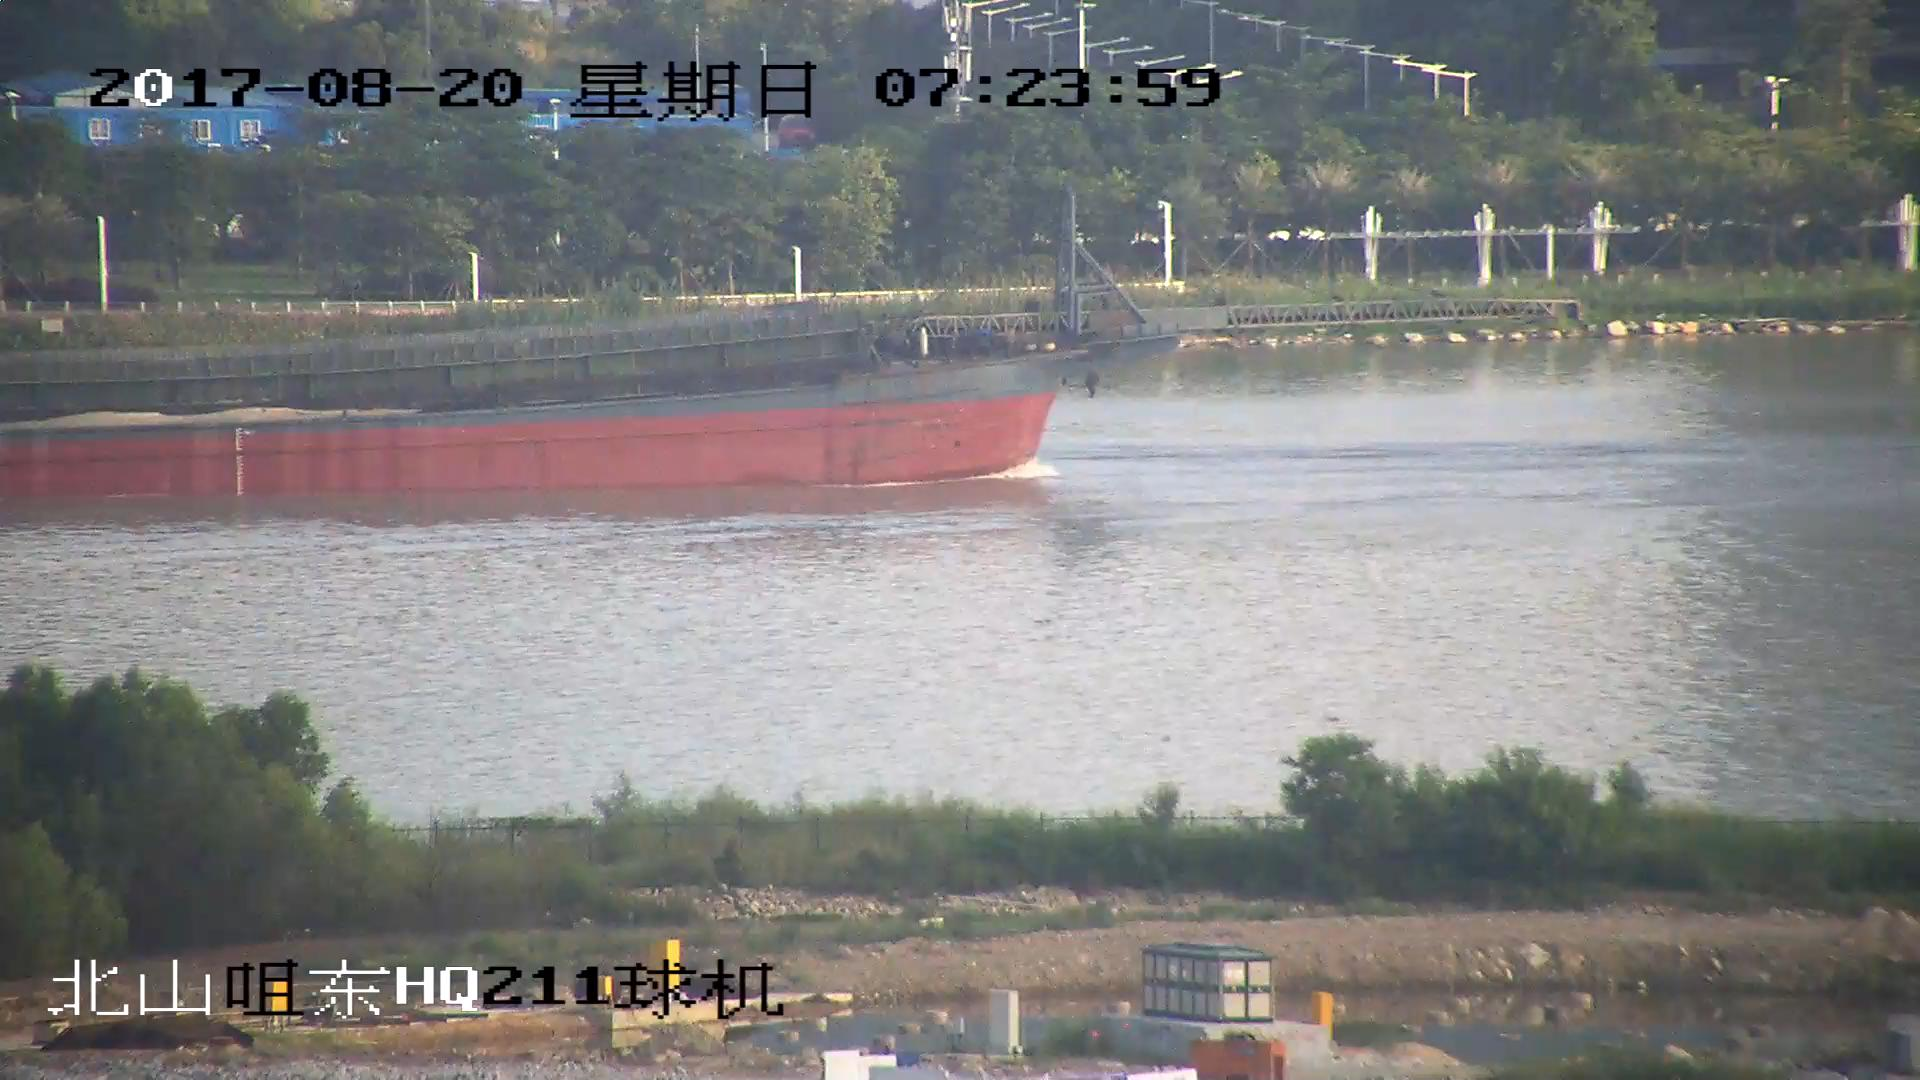bulk cargo carrier: (1, 180, 1559, 501)
